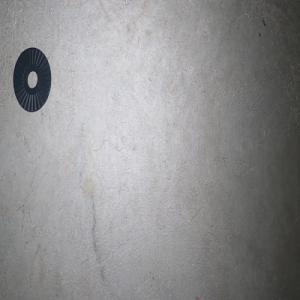Washer: (13, 47, 51, 112)
